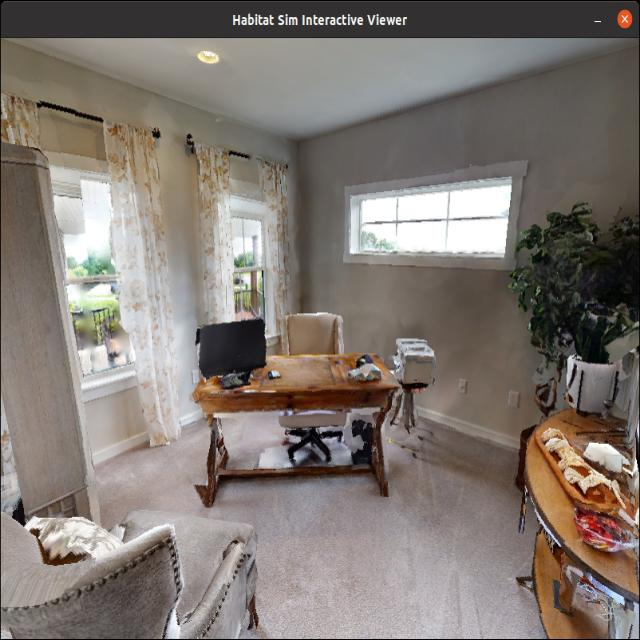chair: (277, 293, 352, 478)
sofa: (0, 477, 275, 639)
table: (180, 335, 410, 504), (506, 393, 640, 640)
